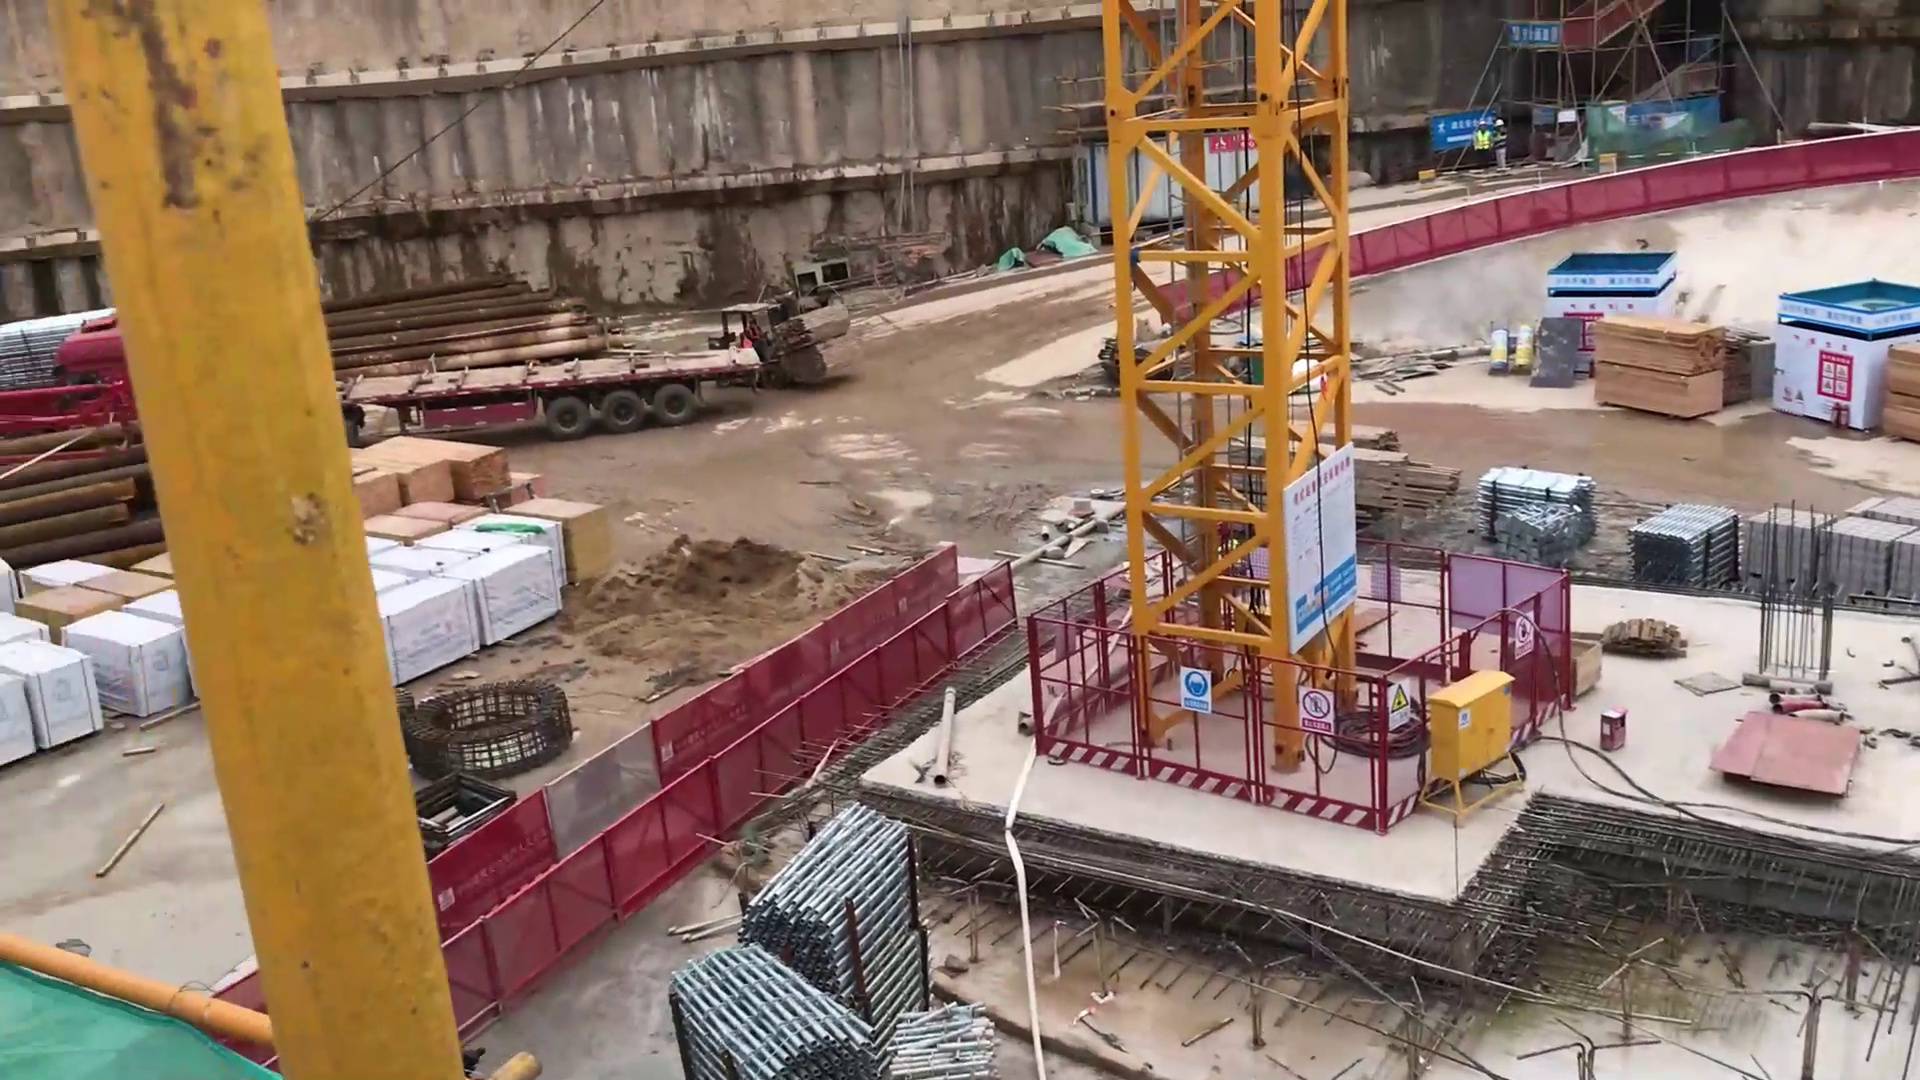board: (1693, 705, 1878, 792)
brick: (1824, 485, 1920, 609), (1741, 500, 1836, 609)
ebox: (1429, 661, 1525, 824)
fence: (664, 542, 1022, 827), (1029, 615, 1380, 845), (1585, 130, 1916, 224)
person: (1492, 118, 1511, 176), (1471, 119, 1493, 171)
scaffold: (755, 797, 937, 1033), (670, 941, 881, 1080), (1474, 467, 1600, 553), (1633, 497, 1737, 596)
slogan: (1280, 438, 1364, 656), (1175, 662, 1219, 717), (1297, 686, 1341, 741), (1813, 350, 1852, 400), (1506, 19, 1568, 47), (1389, 677, 1419, 733), (1514, 609, 1541, 661)
wood: (1593, 309, 1737, 433), (355, 424, 511, 507), (1352, 420, 1452, 524), (784, 305, 871, 389)
